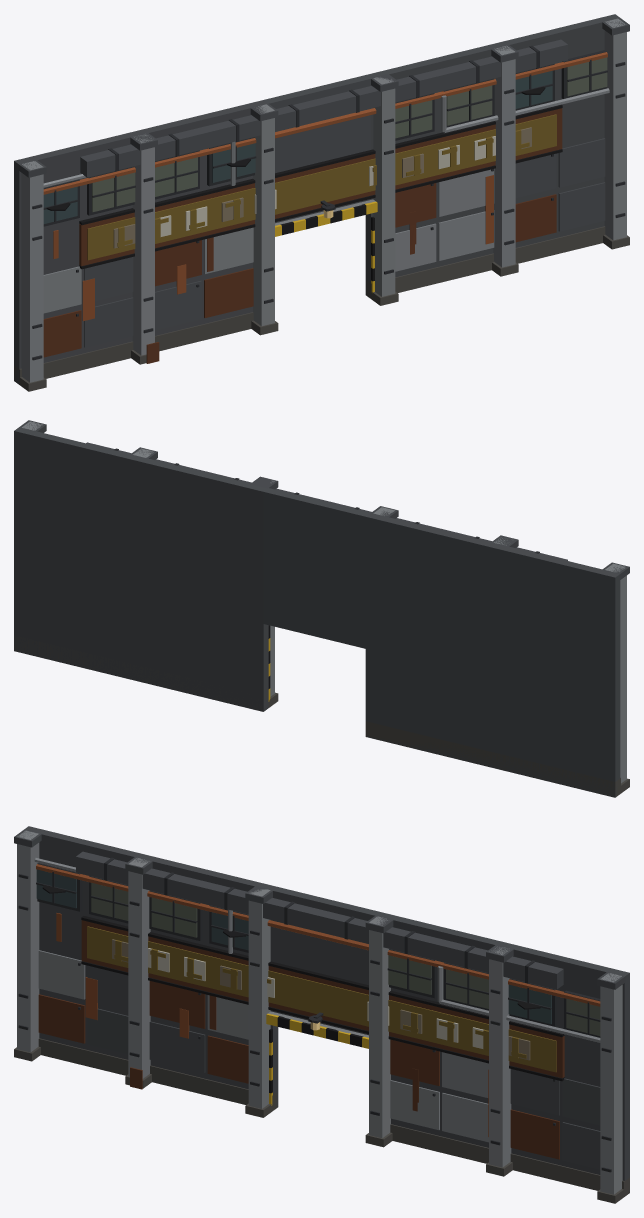
File: lmk_factory_facade.fbx
3 renders of one model, top to bottom at view 1: azimuth 30°, elevation 25°; view 2: azimuth 150°, elevation 25°; view 3: azimuth 330°, elevation 25°, orthographic.
Visible parts, largest first — view 1: lmk_factory_facade; view 2: lmk_factory_facade; view 3: lmk_factory_facade.
Part boxes in pixels (x1,y1,x2,y2): lmk_factory_facade: (14,14,629,391); lmk_factory_facade: (14,420,629,797); lmk_factory_facade: (14,826,629,1203).
Bounding box in the file's own units: 20 × 7 × 1.
